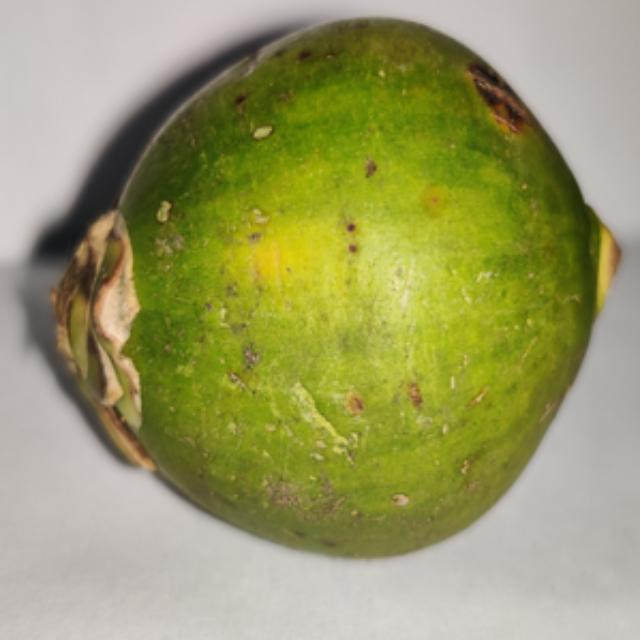good: (79, 17, 619, 563)
